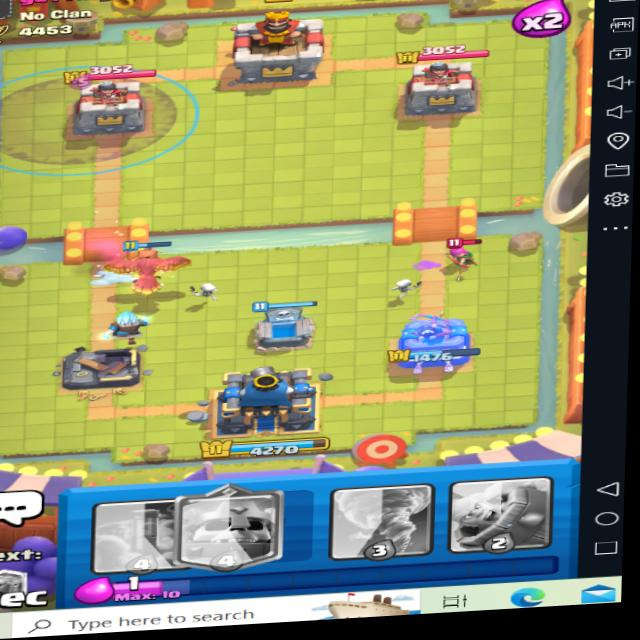archer: (434, 232, 479, 276)
